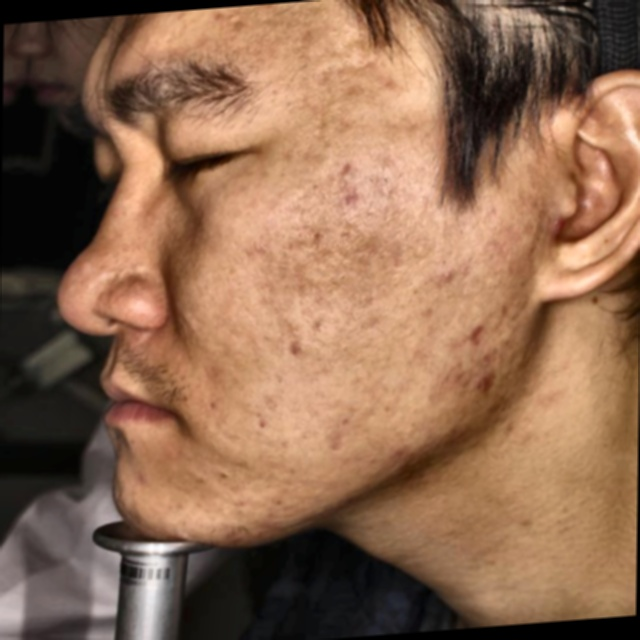comedone: (453, 319, 492, 352), (462, 368, 496, 402)
